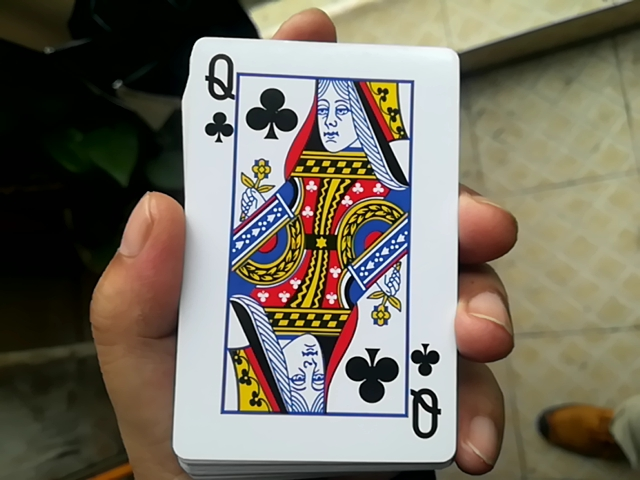mh q: (155, 38, 461, 471)
